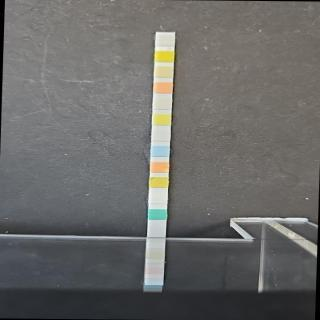mark: (155, 36, 175, 49), (149, 192, 167, 206), (154, 66, 174, 78), (152, 98, 172, 110), (149, 176, 169, 188), (154, 82, 172, 95), (151, 129, 170, 141), (154, 51, 174, 62), (148, 209, 168, 220), (153, 114, 171, 126), (151, 146, 169, 158), (151, 161, 169, 172)
